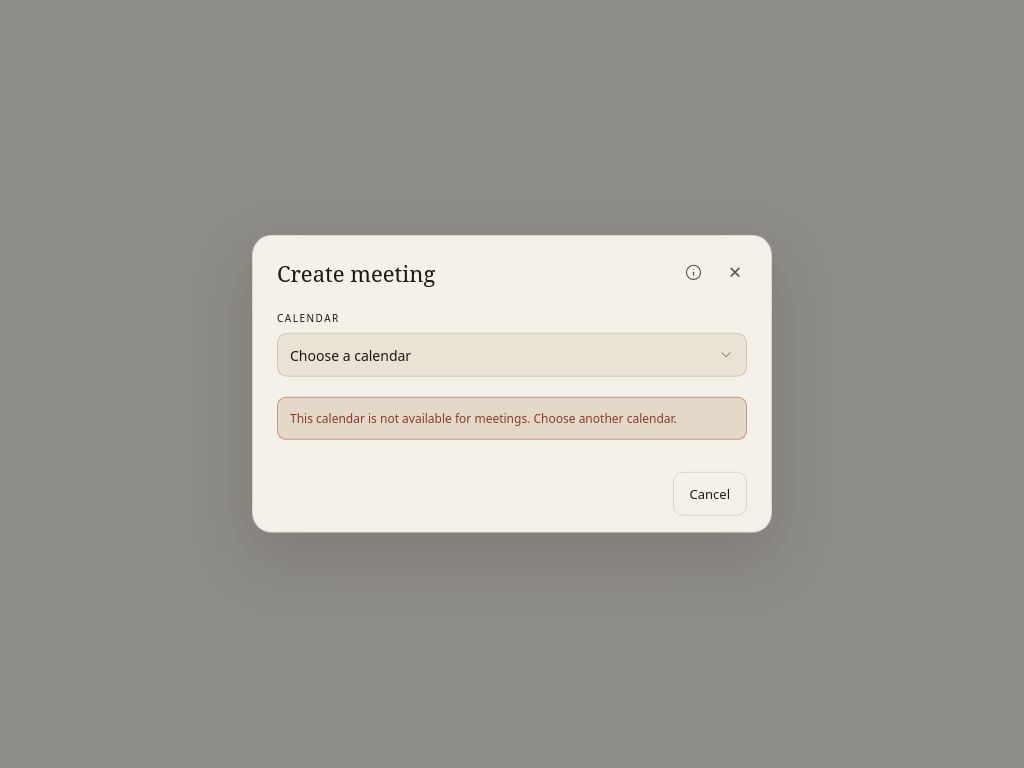
Test: requires an explicit choice when the requested calendar loses meeting access
The image size is (1024, 768).
Expected: the text "This calendar is not available for meetings. Choose another calendar." is shown, [290,410,734,427]
Expected: the button "Create and send invitations" is not shown
Step 1. Click the dropdown labelled "calendar" → (351, 355), box [277,333,747,377]
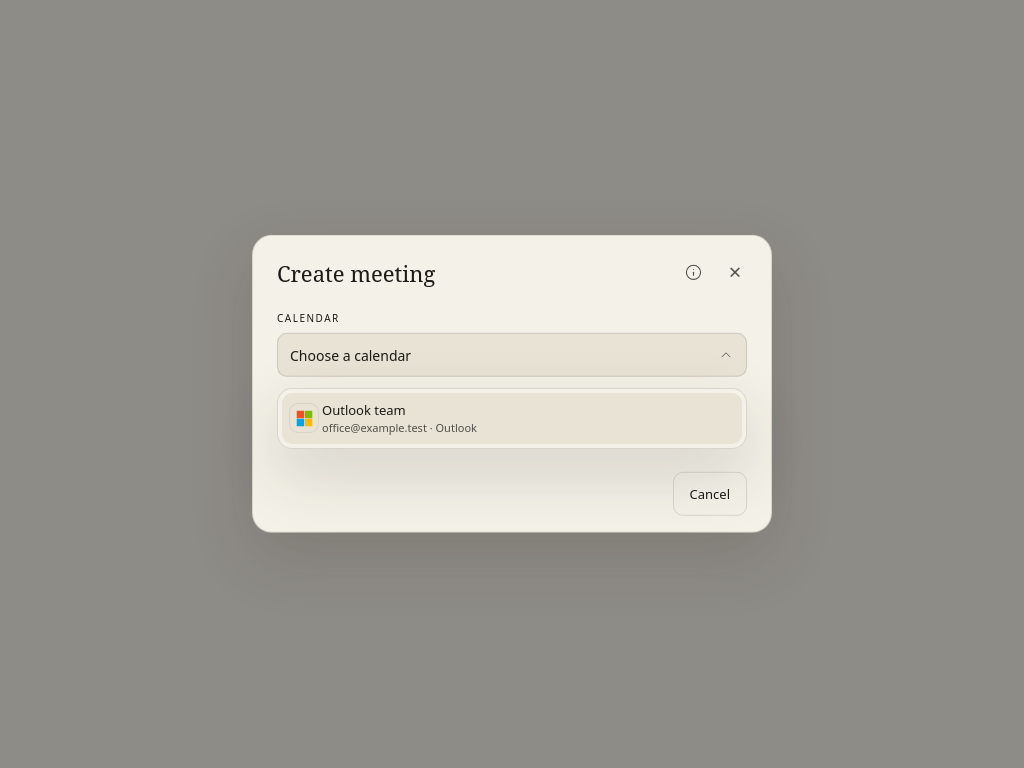
Step 2. Click the option "Outlook team office@example.test · Outlook" → (364, 410), box [282,393,742,444]
(page scrolled)
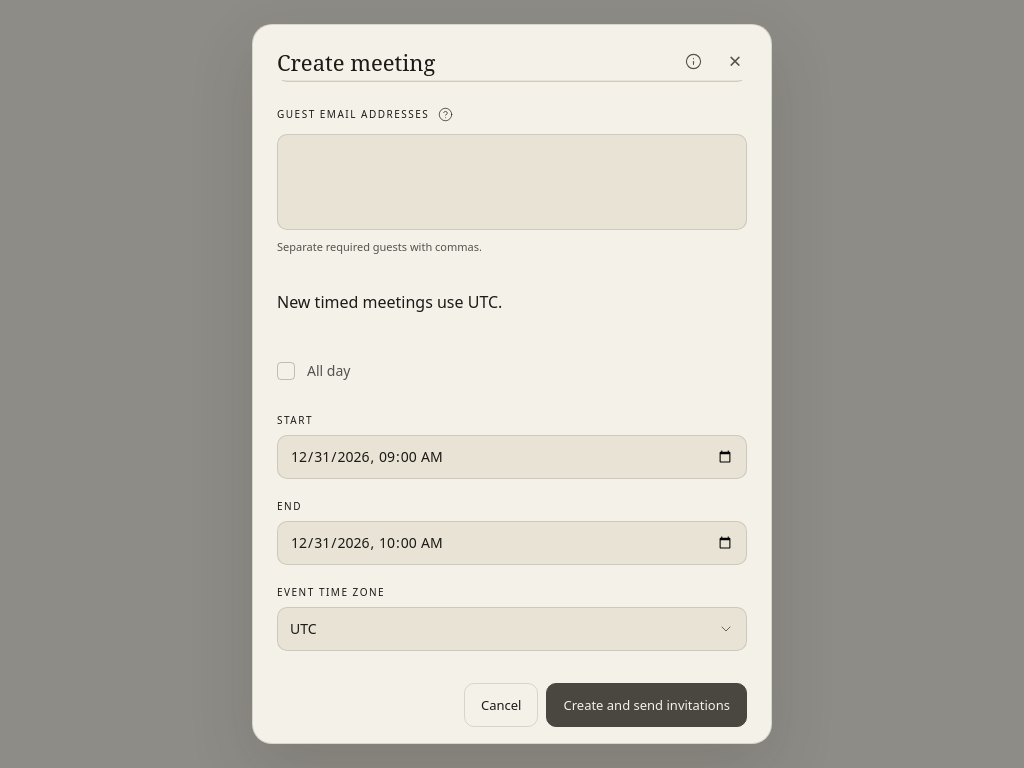
Expected: the text "UTC" is shown, [290,619,317,638]
Expected: the text "This calendar is not available" is gone
